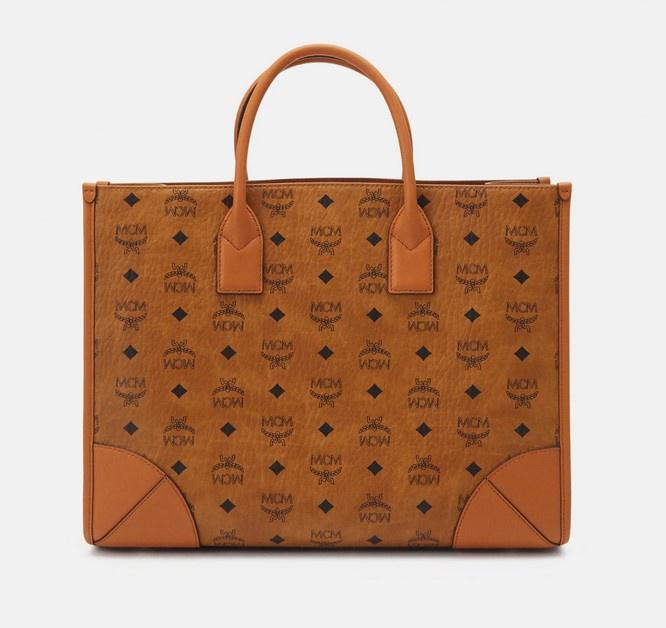MCM: (89, 183, 568, 549)
